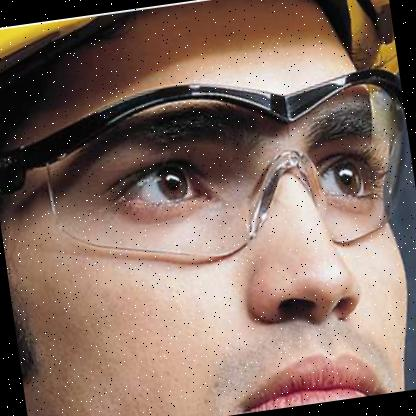oculos: (17, 54, 416, 287)
